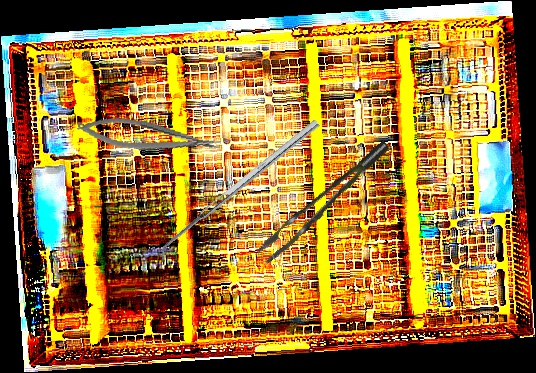Needle Holder: (75, 109, 223, 165)
Spatula Surgical: (153, 119, 325, 263)
Tissue Forceps: (246, 140, 404, 265)
